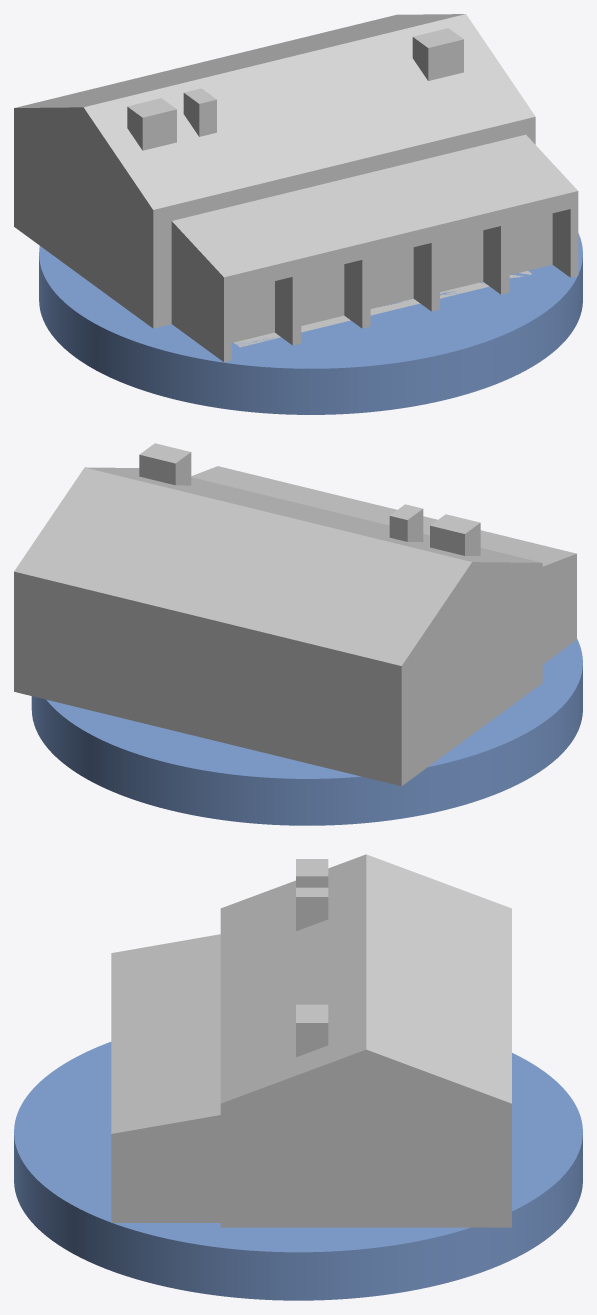
Rendered from RED.gltf.
3 renders of one model, top to bottom at view 1: azimuth 30°, elevation 25°; view 2: azimuth 150°, elevation 25°; view 3: azimuth 270°, elevation 25°, orthographic. The views are drawn at different scales.
Parts seen in each view (by area): view 1: Part 2, Part 1, Part 3; view 2: Part 2, Part 1; view 3: Part 2, Part 1.
Boxes of the visible parts, <box> form: Part 2: <box>14,14,578,362</box>; Part 1: <box>39,233,582,414</box>; Part 3: <box>234,271,531,347</box>; Part 2: <box>14,443,576,786</box>; Part 1: <box>31,639,582,825</box>; Part 2: <box>111,854,511,1227</box>; Part 1: <box>14,1042,582,1300</box>.
Size of the model in its own units: 0.032 by 0.0146 by 0.032.
